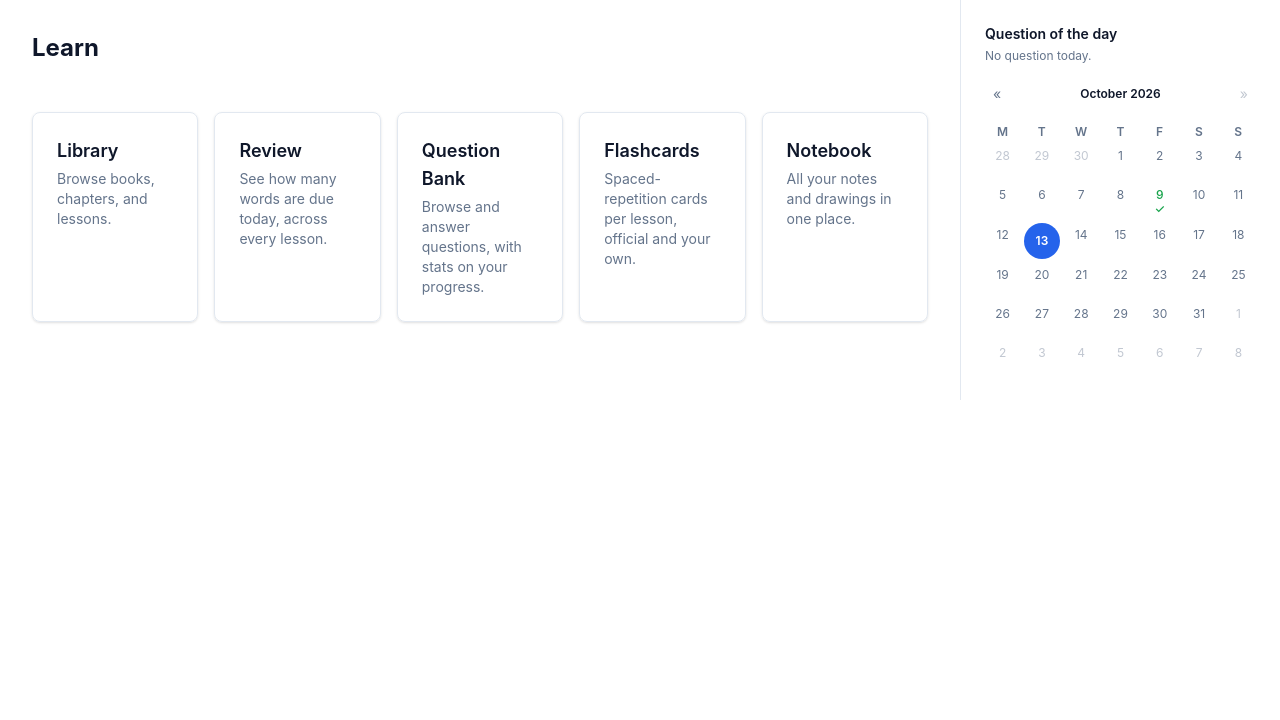
it: LearnPage question of the day › a past day that was answered shows the score and the reasoning
Click the button named "Friday, October 9, 2026: Answered correctly" at {"x": 1160, "y": 201}, box [1142,183,1177,219]
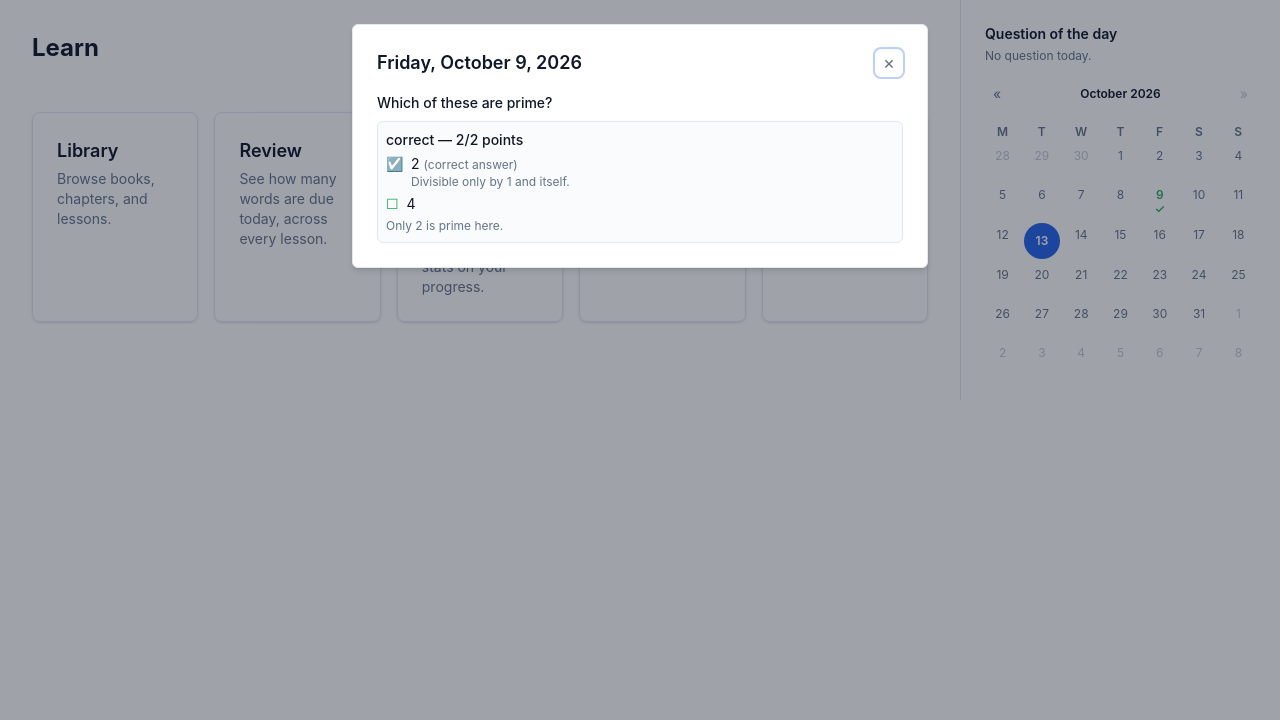
Check: the dialog is shown, box [352,24,928,268]
Check: the text "correct — 2/2 points" is shown, box [386,131,523,148]
Check: the text "Divisible only by 1 and itself." is shown, box [411,174,570,189]
